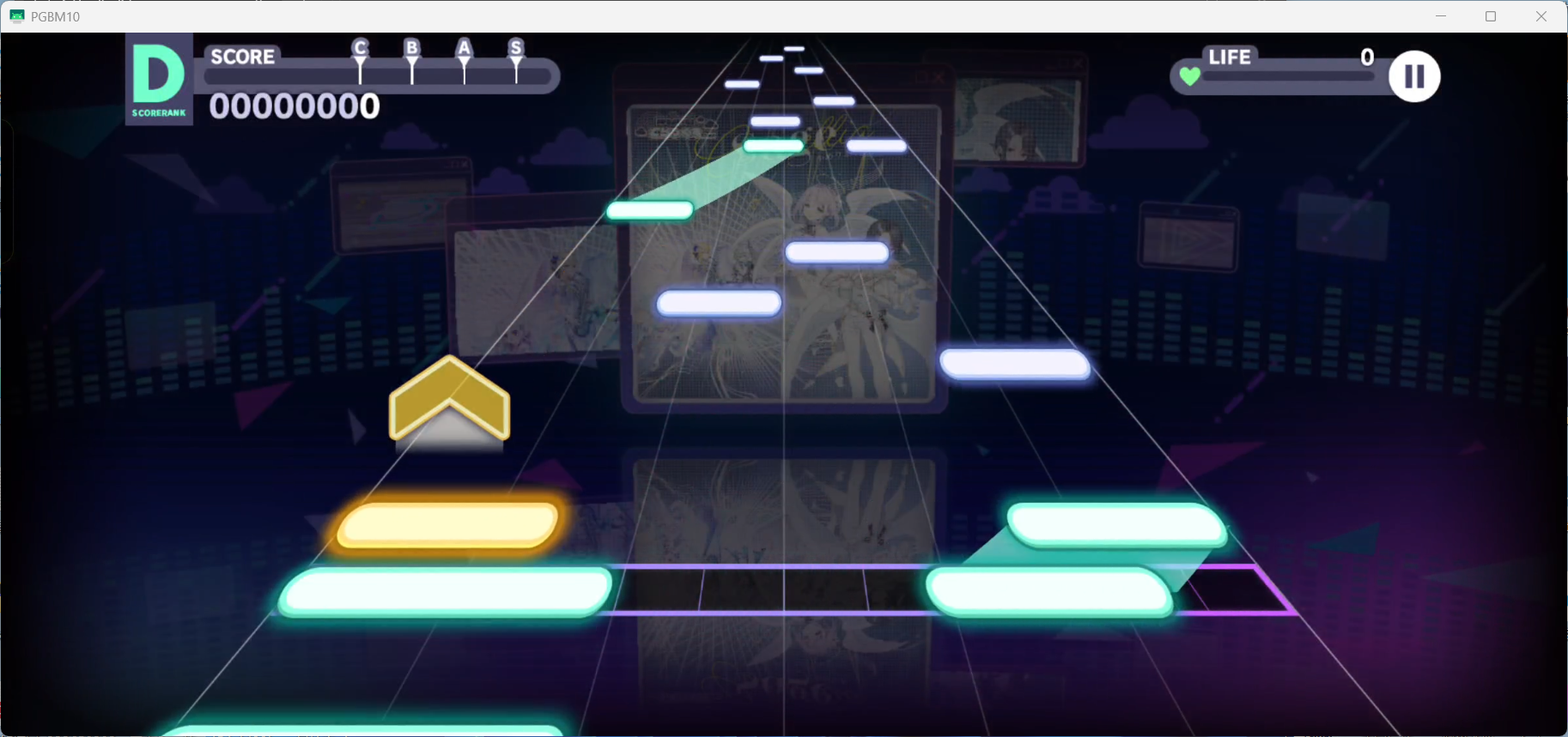flick: (388, 352, 512, 457)
hold: (629, 152, 795, 202)
tap: (276, 565, 614, 619), (924, 564, 1174, 619), (338, 502, 560, 552), (1006, 503, 1225, 551), (939, 348, 1091, 380), (657, 290, 781, 317), (786, 242, 889, 263), (607, 202, 693, 219), (744, 139, 803, 151), (847, 140, 907, 151), (751, 117, 800, 126), (813, 96, 854, 106), (723, 80, 758, 88), (794, 67, 824, 74), (759, 55, 783, 62), (784, 46, 805, 51)
